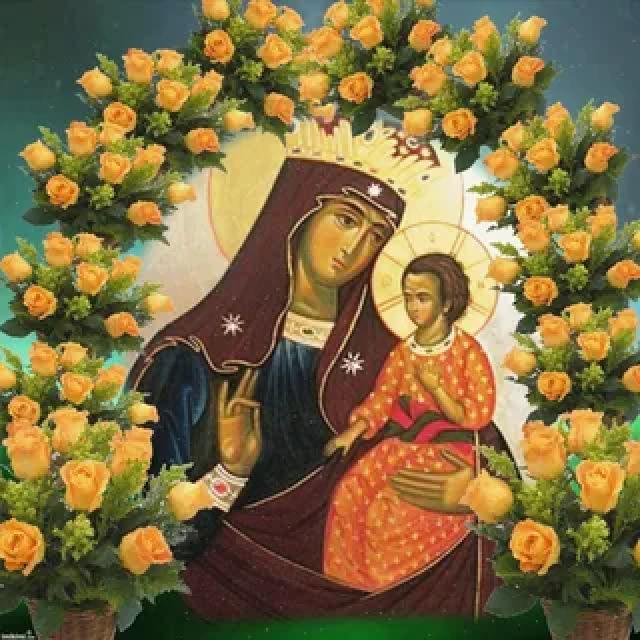mother of god: (124, 145, 512, 622)
